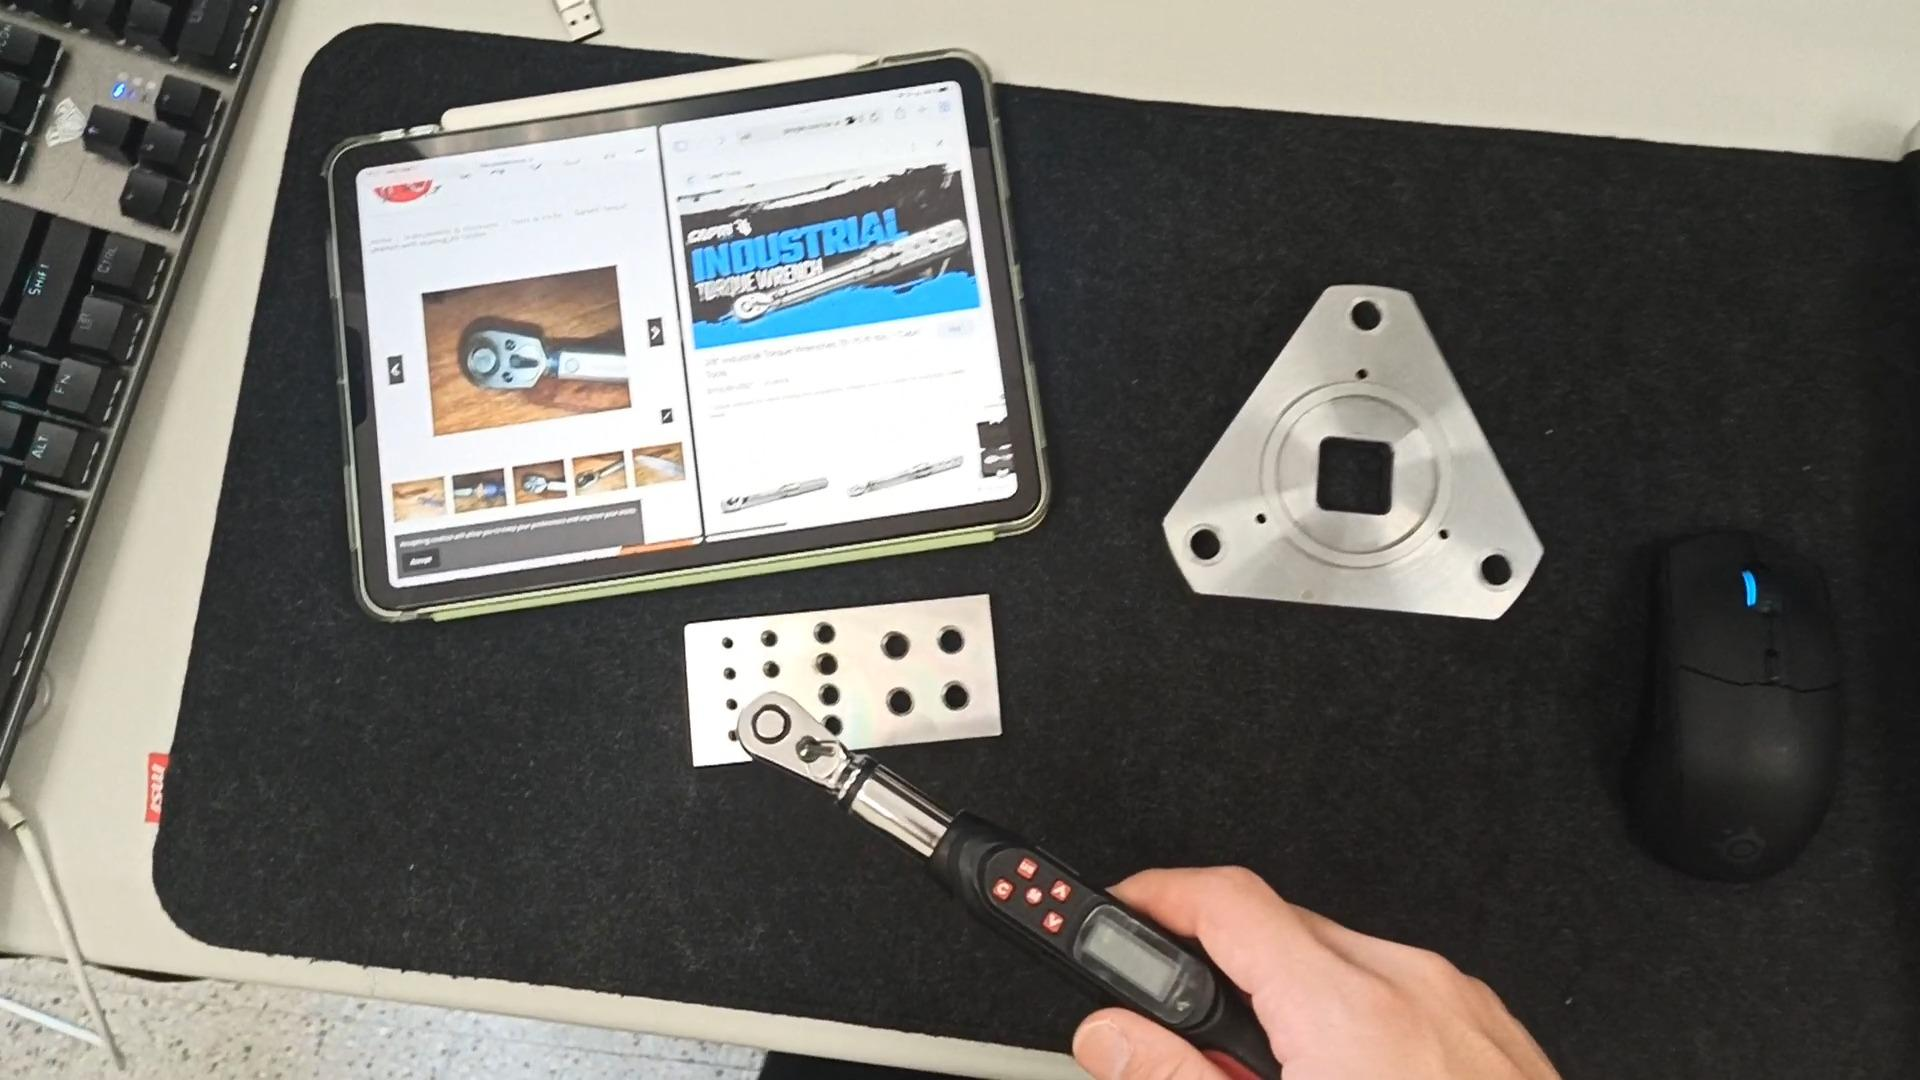Tool: (738, 696, 855, 787), (452, 314, 542, 397)
hole: (1456, 553, 1522, 599), (1171, 525, 1233, 570), (1336, 301, 1396, 344), (924, 678, 984, 716), (919, 622, 977, 658), (870, 683, 924, 719), (866, 628, 920, 662), (799, 620, 847, 649), (802, 682, 848, 709), (802, 653, 848, 679), (804, 709, 848, 735), (744, 629, 781, 649), (746, 662, 782, 682), (712, 728, 745, 746), (709, 666, 742, 683), (709, 695, 741, 712), (708, 634, 738, 651)
